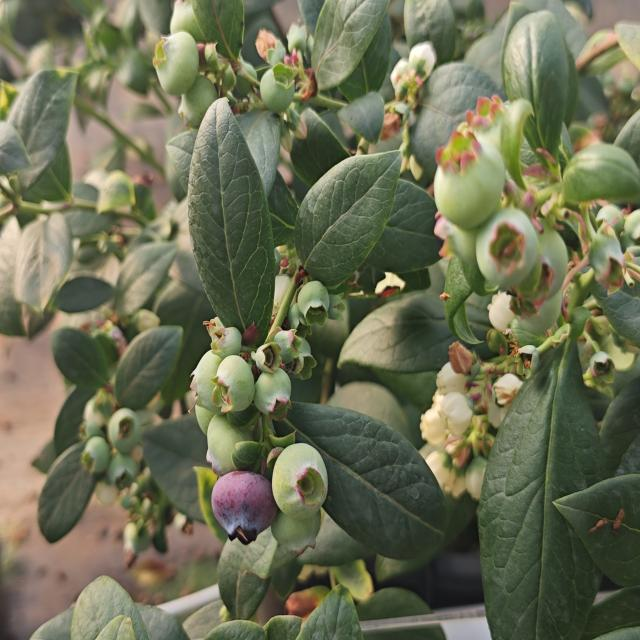ripe: (208, 468, 278, 548)
